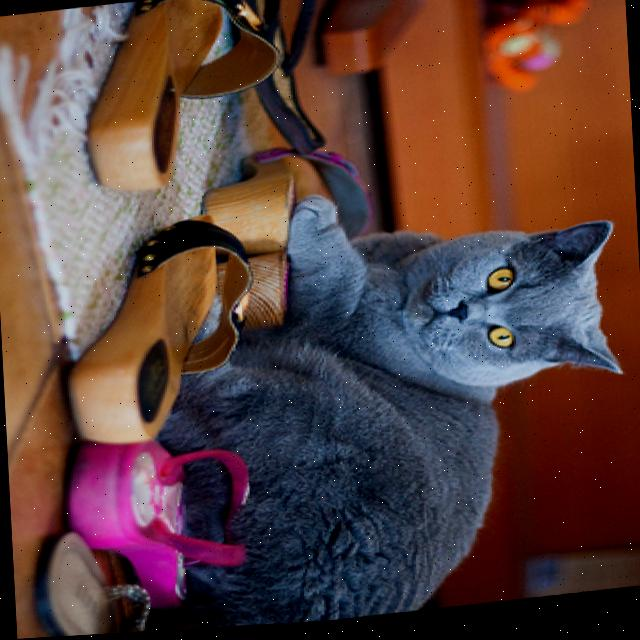British Shorthair: (99, 163, 640, 635)
